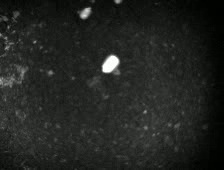corn: (100, 54, 121, 76), (77, 5, 93, 20), (111, 1, 122, 4)
